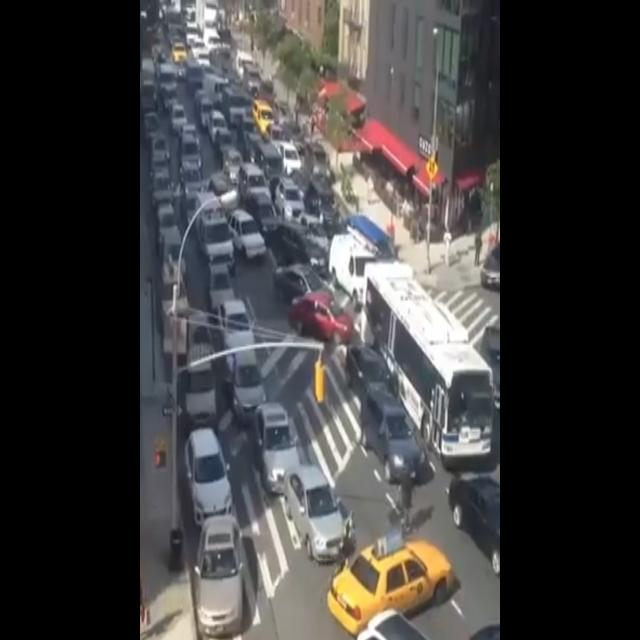Ambulance: (194, 188, 236, 272)
